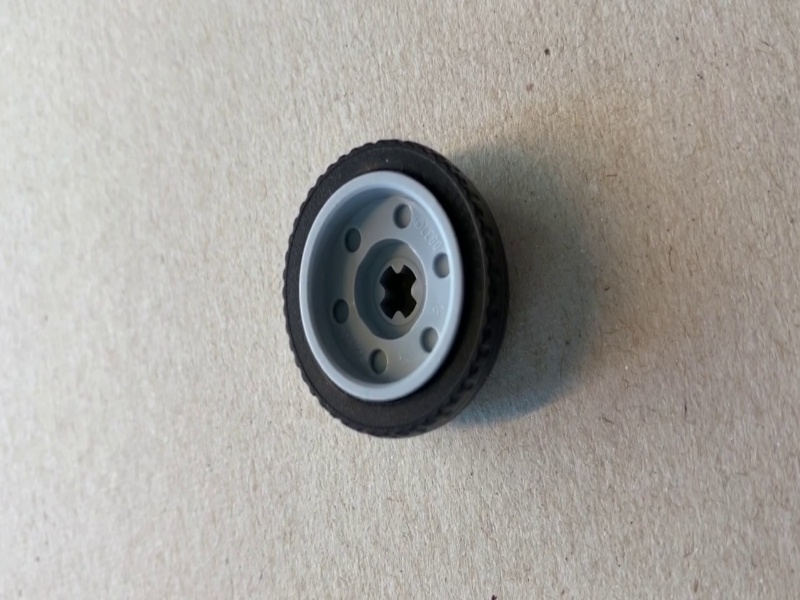tire: (283, 139, 512, 439)
